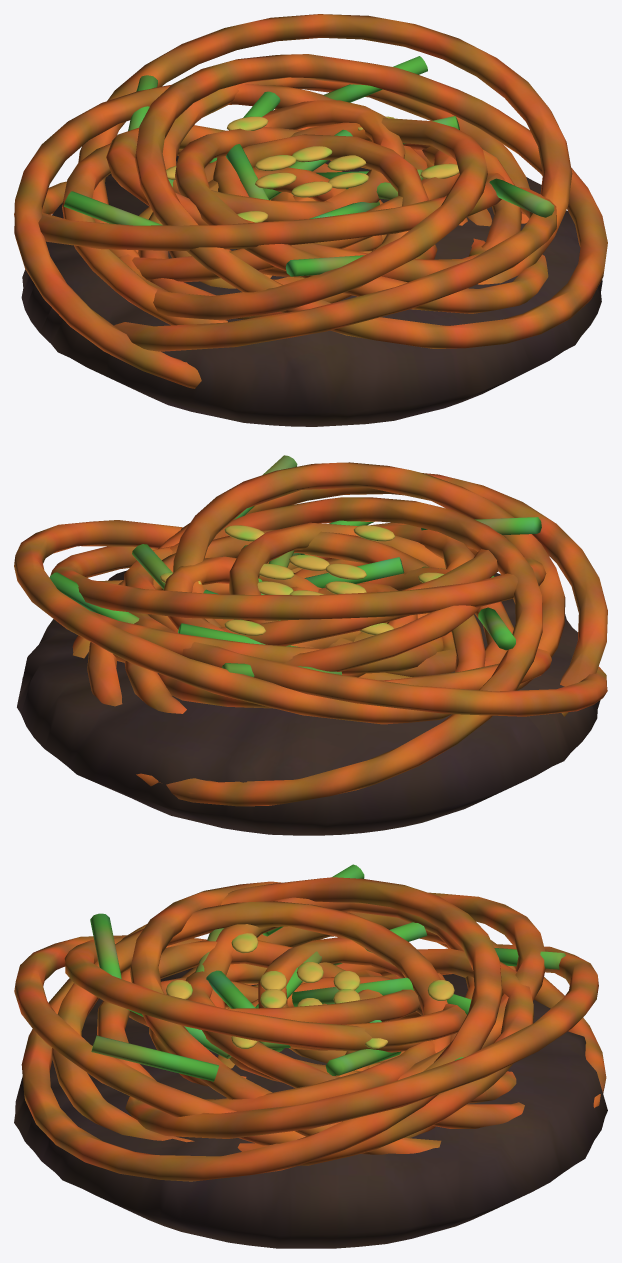
File: hakka-street-chow-mein-balanced.glb
3 renders of one model, top to bottom at view 1: azimuth 30°, elevation 25°; view 2: azimuth 150°, elevation 25°; view 3: azimuth 270°, elevation 25°, orthographic.
Visible parts, largest first — view 1: Mesh_Hakka_Wok_Noodle_Strands, Mesh_Street_Flared_Wok_Bowl, Mesh_Julienne_Cabbage_And_Peppers, Mesh_Crispy_Garlic_And_Scallions; view 2: Mesh_Hakka_Wok_Noodle_Strands, Mesh_Street_Flared_Wok_Bowl, Mesh_Julienne_Cabbage_And_Peppers, Mesh_Crispy_Garlic_And_Scallions; view 3: Mesh_Hakka_Wok_Noodle_Strands, Mesh_Street_Flared_Wok_Bowl, Mesh_Julienne_Cabbage_And_Peppers, Mesh_Crispy_Garlic_And_Scallions.
Part boxes in pixels (x1,y1,x2,y2): Mesh_Hakka_Wok_Noodle_Strands: (14, 14, 607, 388); Mesh_Street_Flared_Wok_Bowl: (21, 155, 602, 426); Mesh_Julienne_Cabbage_And_Peppers: (64, 56, 554, 276); Mesh_Crispy_Garlic_And_Scallions: (166, 116, 459, 222); Mesh_Hakka_Wok_Noodle_Strands: (14, 462, 607, 806); Mesh_Street_Flared_Wok_Bowl: (17, 570, 600, 835); Mesh_Julienne_Cabbage_And_Peppers: (49, 455, 541, 677); Mesh_Crispy_Garlic_And_Scallions: (160, 525, 444, 635); Mesh_Hakka_Wok_Noodle_Strands: (14, 877, 606, 1181); Mesh_Street_Flared_Wok_Bowl: (14, 967, 607, 1248); Mesh_Julienne_Cabbage_And_Peppers: (90, 864, 565, 1081); Mesh_Crispy_Garlic_And_Scallions: (166, 933, 454, 1048).
Bounding box in the file's own units: 2.19 × 0.9778 × 2.13.
4 materials, 4 textured.
